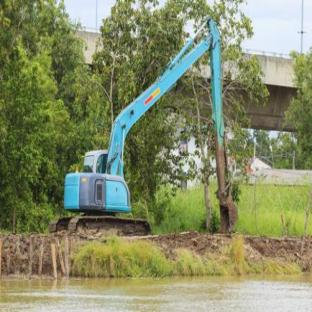ExcavationMachinery: (50, 17, 272, 246)
